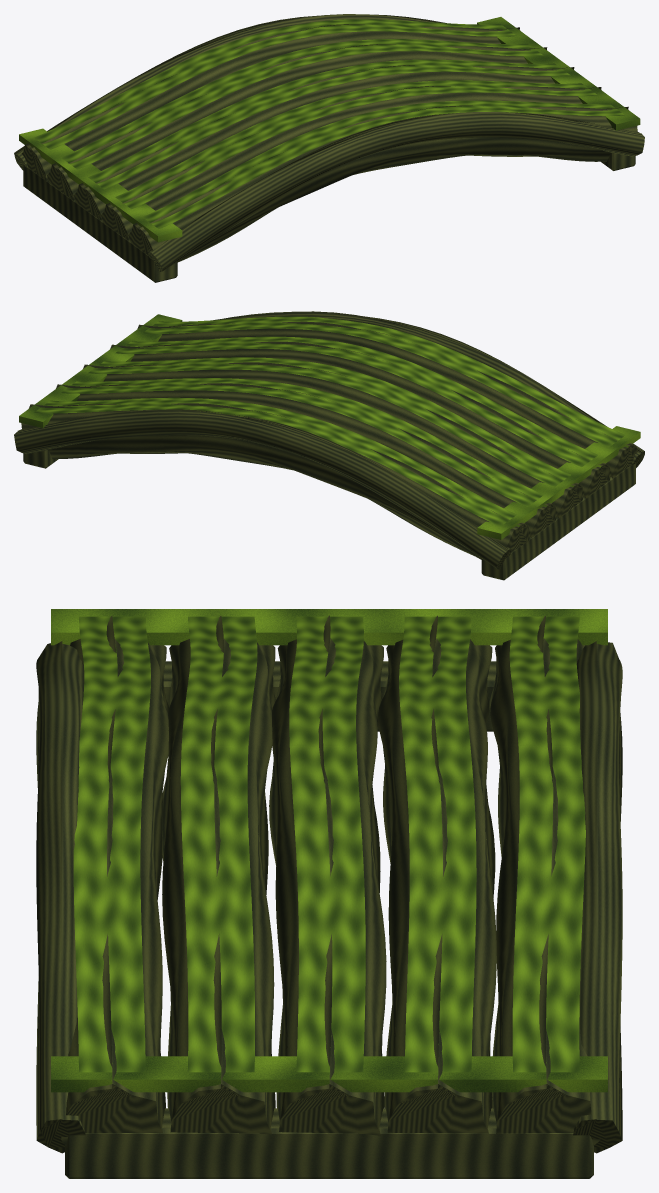
Rendered from river-root-bridge.glb.
3 renders of one model, top to bottom at view 1: azimuth 30°, elevation 25°; view 2: azimuth 150°, elevation 25°; view 3: azimuth 270°, elevation 25°, orthographic. The views are drawn at different scales.
Parts seen in each view (by area): view 1: river-root-bridge_kit-bark, river-root-bridge_kit-moss; view 2: river-root-bridge_kit-bark, river-root-bridge_kit-moss; view 3: river-root-bridge_kit-moss, river-root-bridge_kit-bark.
Part boxes in pixels (left/top/right/bottom): river-root-bridge_kit-bark: left=14, top=14, right=644, bottom=282; river-root-bridge_kit-moss: left=19, top=17, right=640, bottom=242; river-root-bridge_kit-bark: left=14, top=311, right=644, bottom=580; river-root-bridge_kit-moss: left=19, top=314, right=640, bottom=539; river-root-bridge_kit-moss: left=51, top=609, right=607, bottom=1092; river-root-bridge_kit-bark: left=36, top=615, right=622, bottom=1178.
Bounding box in the file's own units: 4.07 × 0.8077 × 2.11.
2 materials, 2 textured.
